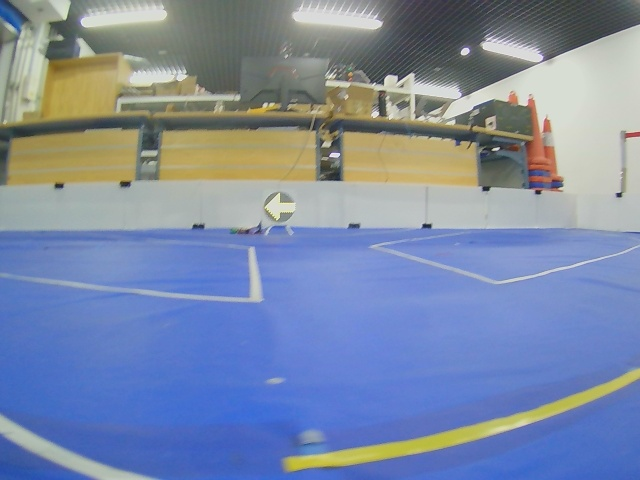left_yellow: (264, 192, 296, 222)
